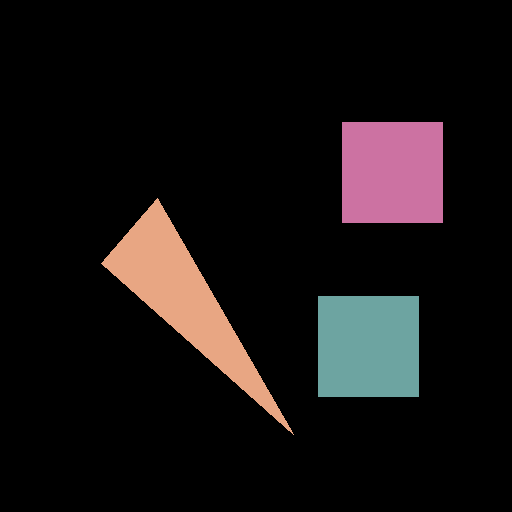square: (318, 296, 418, 396), (342, 122, 442, 222)
triangle: (101, 198, 293, 434)
